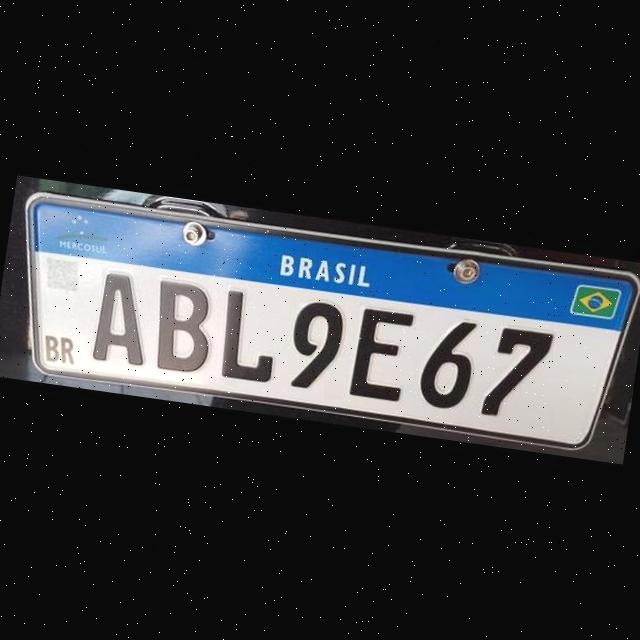Caractere: (477, 319, 556, 425), (146, 276, 220, 378), (214, 286, 286, 386), (414, 312, 484, 414), (88, 268, 158, 370), (348, 302, 416, 404), (284, 296, 347, 394)
Placa: (1, 188, 640, 460)
